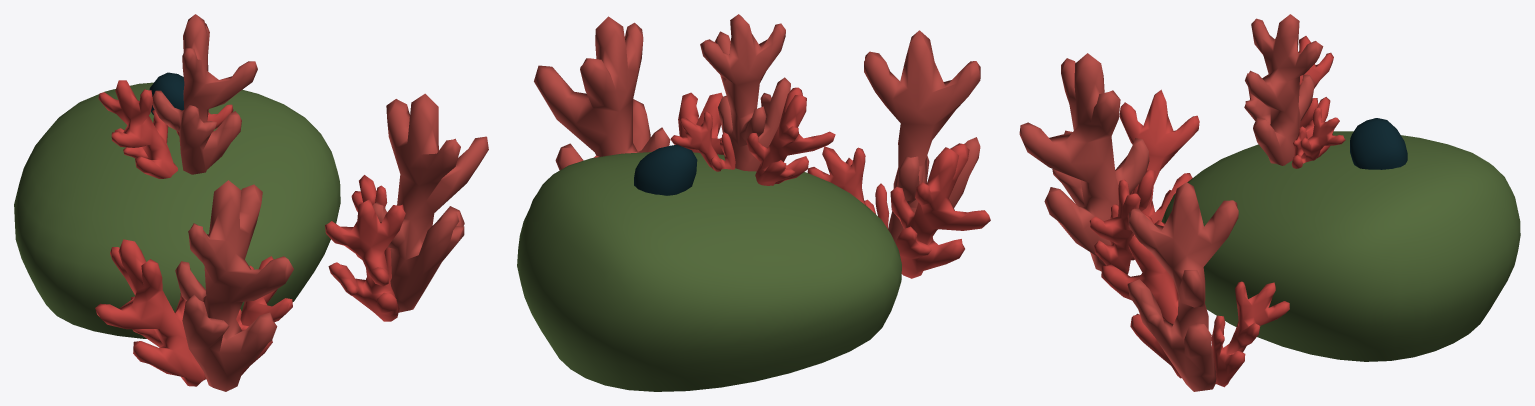
Rendered from fillercoral_red.gltf.
The picture shows the model from 3 angles, left to right: view 1: azimuth 30°, elevation 25°; view 2: azimuth 150°, elevation 25°; view 3: azimuth 270°, elevation 25°; orthographic projection. The views are drawn at different scales.
Visible parts, largest first — view 1: Rock, Coral.002, Coral.003, Coral.001, Rock 3; view 2: Rock, Coral.002, Coral.001, Coral.003, Rock 3; view 3: Rock, Coral.002, Coral.003, Coral.001, Rock 3.
Boxes of the visible parts, bbox=[...] form: Rock: bbox=[14, 82, 340, 338]; Coral.002: bbox=[95, 180, 293, 391]; Coral.003: bbox=[325, 93, 488, 321]; Coral.001: bbox=[98, 14, 257, 178]; Rock 3: bbox=[149, 72, 184, 114]; Rock: bbox=[517, 152, 901, 391]; Coral.002: bbox=[807, 30, 990, 278]; Coral.001: bbox=[670, 14, 835, 185]; Coral.003: bbox=[534, 16, 723, 170]; Rock 3: bbox=[634, 144, 697, 195]; Rock: bbox=[1161, 131, 1520, 361]; Coral.002: bbox=[1019, 53, 1199, 274]; Coral.003: bbox=[1101, 182, 1289, 391]; Coral.001: bbox=[1244, 14, 1345, 168]; Rock 3: bbox=[1350, 118, 1407, 169].
Size of the model in its own units: 6.37 by 4.45 by 6.8.
